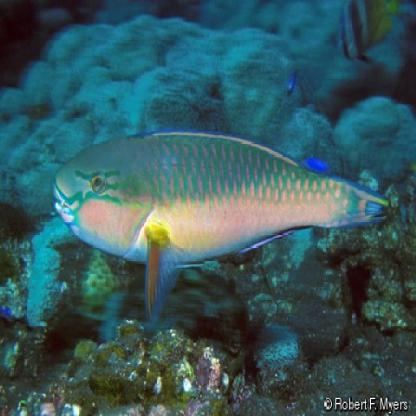parrot: (50, 126, 389, 326)
